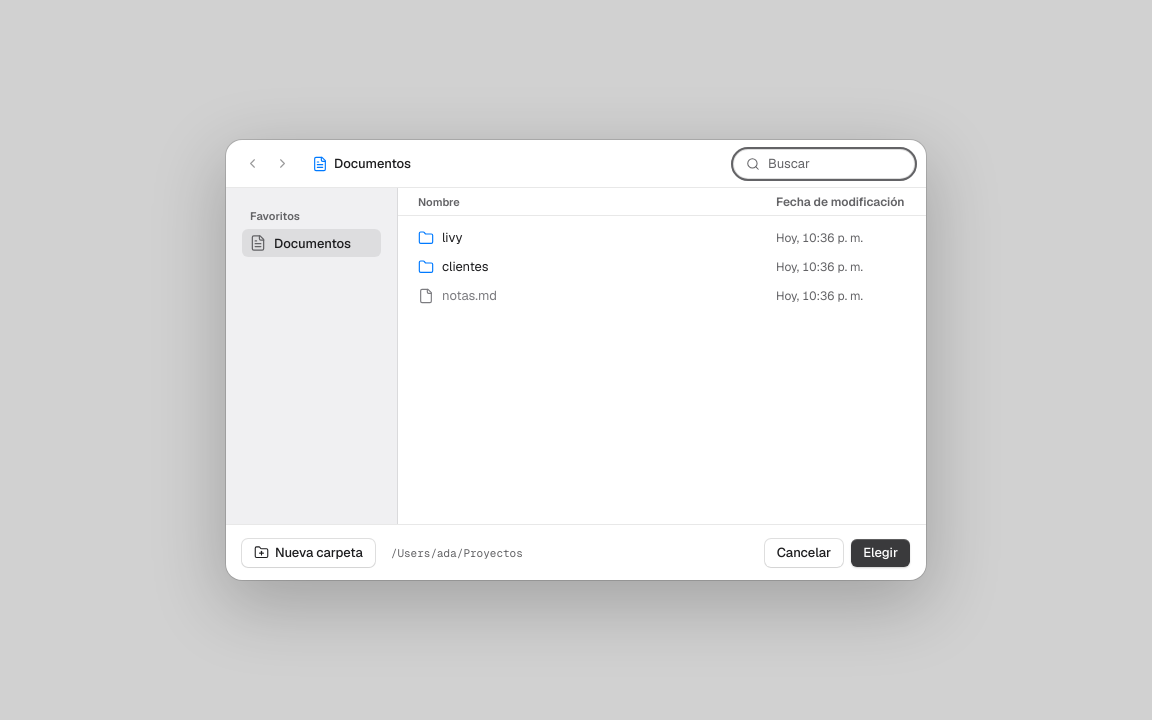
Test: Elegir carpeta (FR-007 a FR-011) › la búsqueda sin coincidencias dice «Sin resultados» con el texto buscado
Step 1. Type "zzz" into the search field named "Buscar carpetas" → (834, 164), box [766, 150, 902, 178]
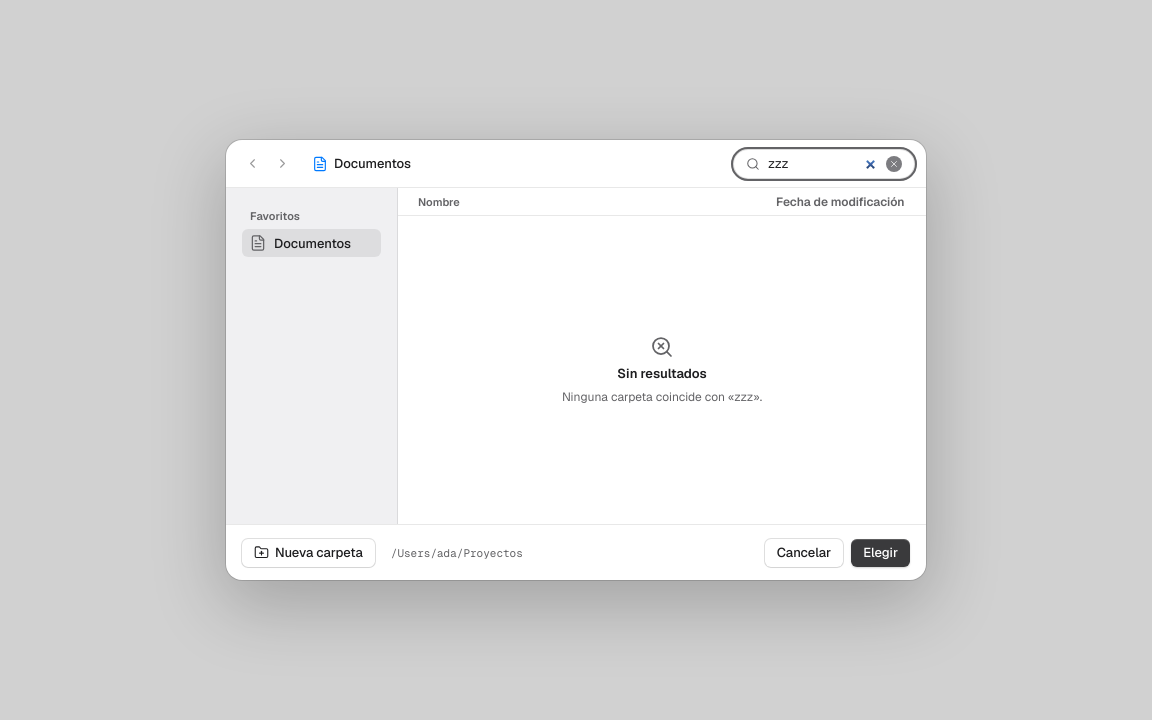
Expected: the text "Sin resultados" is shown, [617, 365, 707, 383]
Expected: the text "Ninguna carpeta coincide con «zzz»." is shown, [562, 389, 762, 405]
